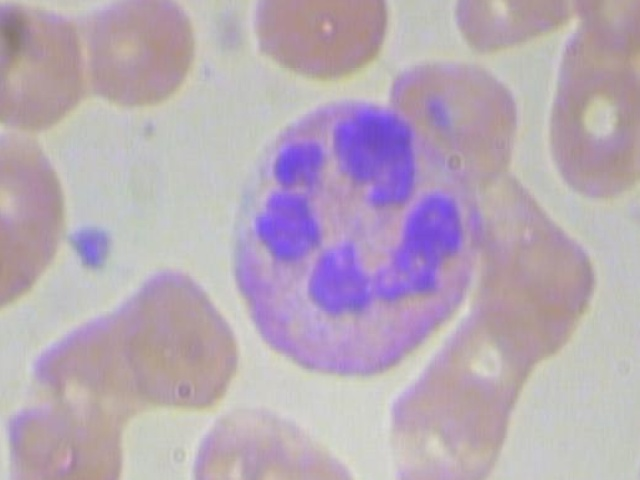Platelets: (58, 217, 117, 282)
RBC: (110, 259, 250, 415), (374, 353, 514, 480), (533, 52, 640, 204), (0, 124, 74, 330), (0, 372, 136, 480), (83, 0, 202, 115), (248, 0, 396, 89), (0, 0, 90, 138), (174, 395, 314, 480), (453, 0, 571, 61)
WBC: (220, 82, 489, 389)
